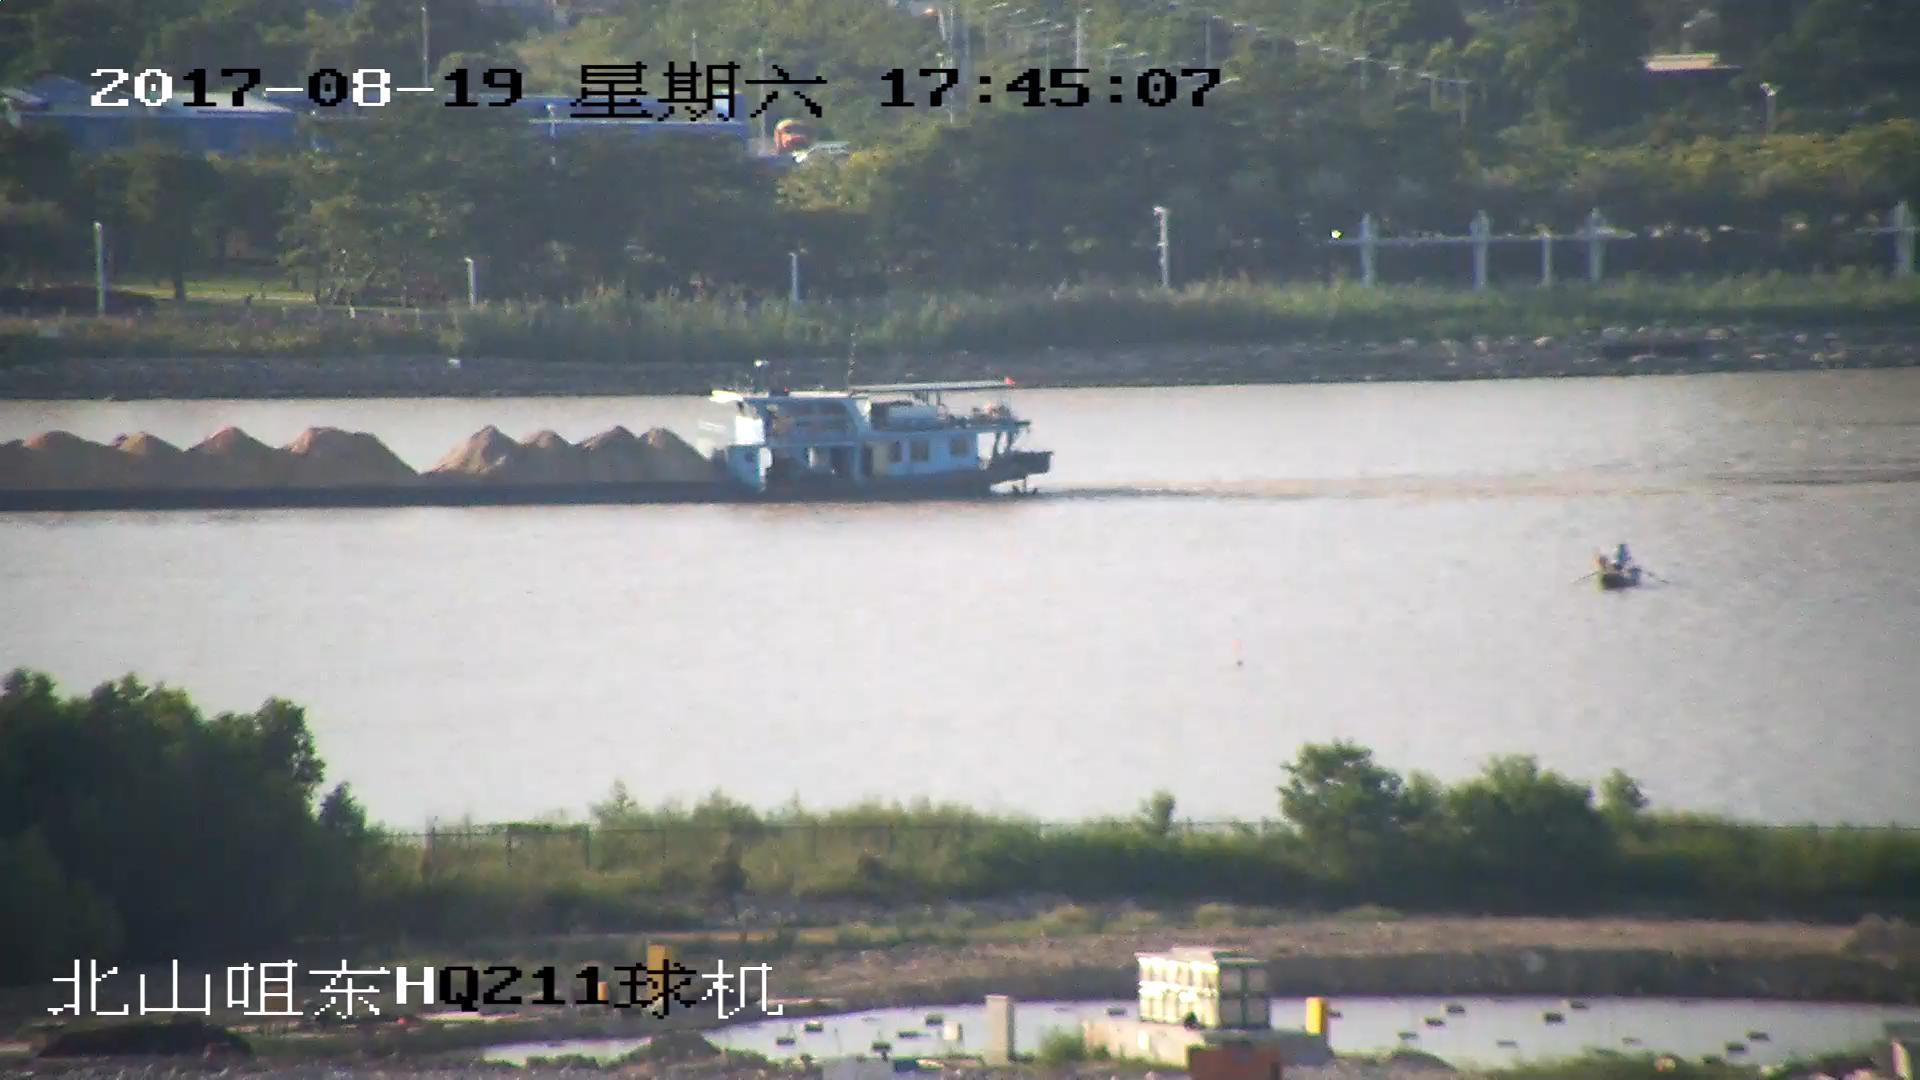Ship: (3, 361, 1062, 509), (1596, 549, 1644, 593)
